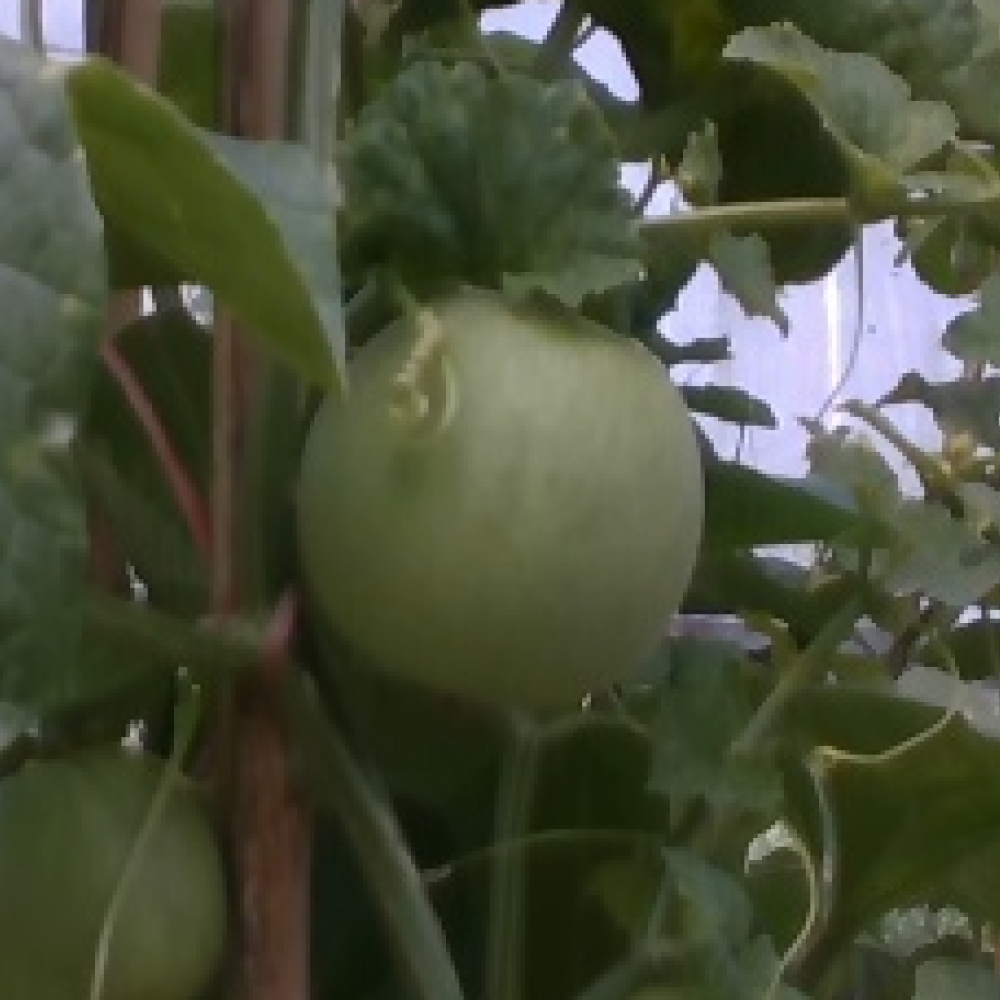melon: (287, 284, 711, 720)
